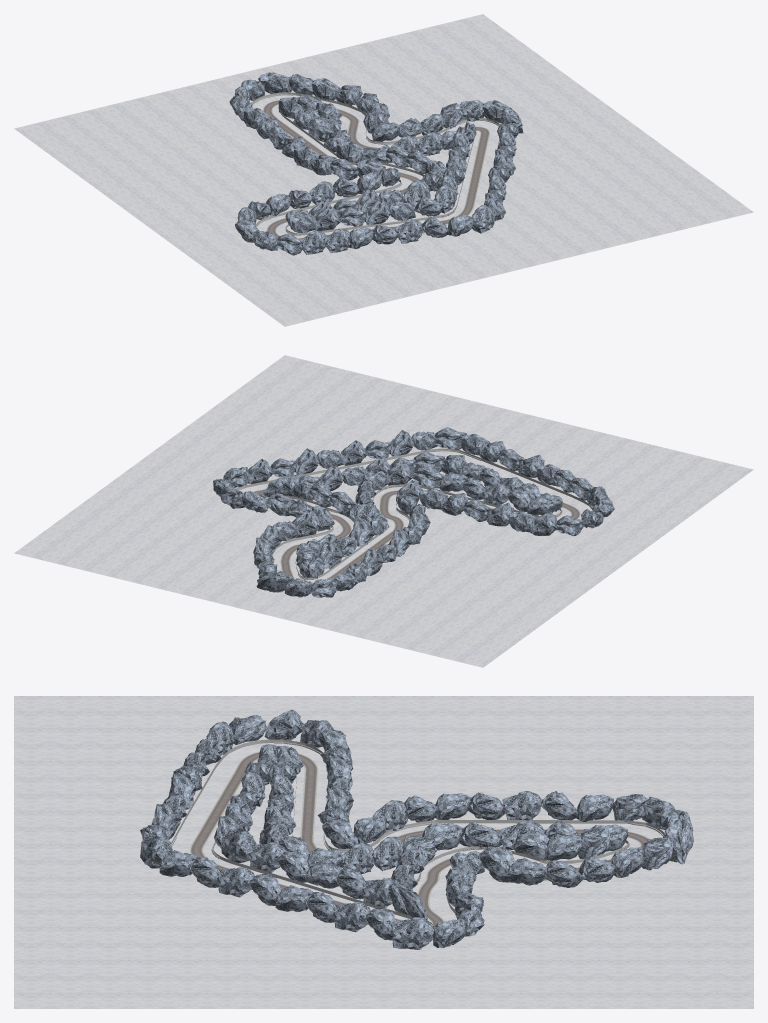
File: track-4.fbx
The picture shows the model from 3 angles, top to bottom: view 1: azimuth 30°, elevation 25°; view 2: azimuth 150°, elevation 25°; view 3: azimuth 270°, elevation 25°; orthographic projection. The views are drawn at different scales.
Parts seen in each view (by area): view 1: pPlane1, Rocks, Racetrack, Wall1, Wall2; view 2: pPlane1, Rocks, Racetrack, Wall1, Wall2; view 3: pPlane1, Rocks, Racetrack, Wall1, Wall2.
Boxes of the visible parts, bbox=[...] form: pPlane1: bbox=[14, 14, 753, 326]; Rocks: bbox=[229, 72, 523, 255]; Racetrack: bbox=[262, 100, 489, 239]; Wall1: bbox=[251, 92, 499, 233]; Wall2: bbox=[280, 111, 475, 235]; pPlane1: bbox=[14, 355, 753, 667]; Rocks: bbox=[213, 427, 614, 597]; Racetrack: bbox=[253, 458, 580, 583]; Wall1: bbox=[236, 448, 592, 554]; Wall2: bbox=[284, 484, 561, 579]; pPlane1: bbox=[14, 696, 753, 1008]; Rocks: bbox=[140, 709, 693, 949]; Racetrack: bbox=[189, 751, 649, 926]; Wall1: bbox=[170, 739, 664, 940]; Wall2: bbox=[213, 776, 628, 919].
Size of what is drawn, in the model's own units: 159014 by 11745 by 159014.
